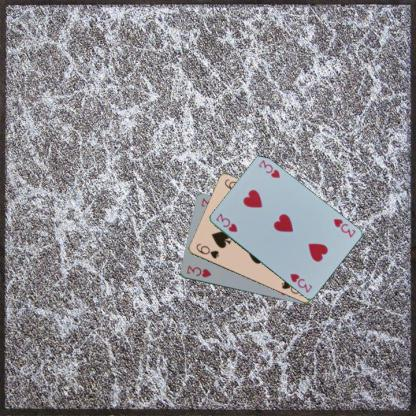3h: (330, 216, 356, 239), (213, 211, 239, 233), (184, 263, 212, 279)
6s: (194, 241, 220, 260)
